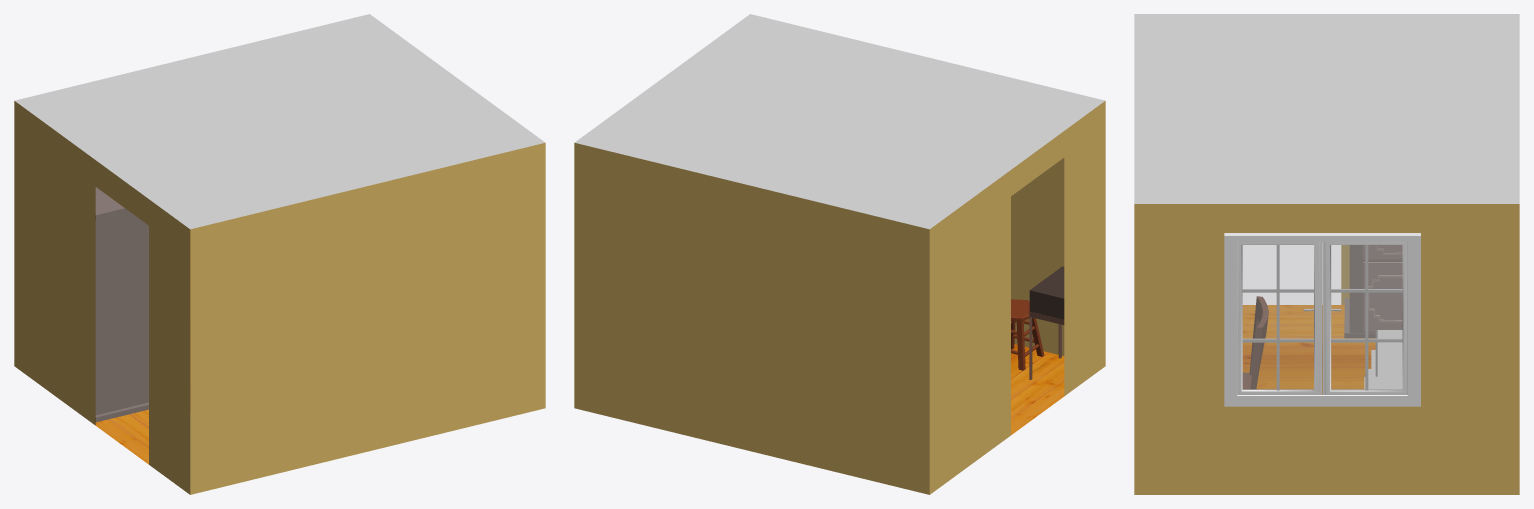
Rendered from bedroom1_box.fbx.
3 renders of one model, left to right at view 1: azimuth 30°, elevation 25°; view 2: azimuth 150°, elevation 25°; view 3: azimuth 270°, elevation 25°, orthographic. The views are drawn at different scales.
Parts seen in each view (by area): view 1: RoomBox, Wardrobe1; view 2: RoomBox, Cube.004, stool, Table_01; view 3: RoomBox, 16639_12_Pane_Casement_Window-White_V1.001, Wardrobe1, Plane.003, WoodChair_01(1), Plane.006.
Part boxes in pixels (left/top/right/bottom): RoomBox: left=14, top=14, right=545, bottom=494; Wardrobe1: left=95, top=187, right=148, bottom=422; RoomBox: left=574, top=14, right=1105, bottom=494; Cube.004: left=1029, top=266, right=1064, bottom=319; stool: left=1011, top=299, right=1044, bottom=370; Table_01: left=1029, top=311, right=1064, bottom=379; RoomBox: left=1134, top=14, right=1519, bottom=494; 16639_12_Pane_Casement_Window-White_V1.001: left=1224, top=233, right=1420, bottom=406; Wardrobe1: left=1344, top=245, right=1402, bottom=338; Plane.003: left=1375, top=330, right=1402, bottom=376; WoodChair_01(1): left=1242, top=296, right=1268, bottom=389; Plane.006: left=1364, top=376, right=1402, bottom=389.
Bounding box in the file's own units: 1778 × 1250 × 1500.
